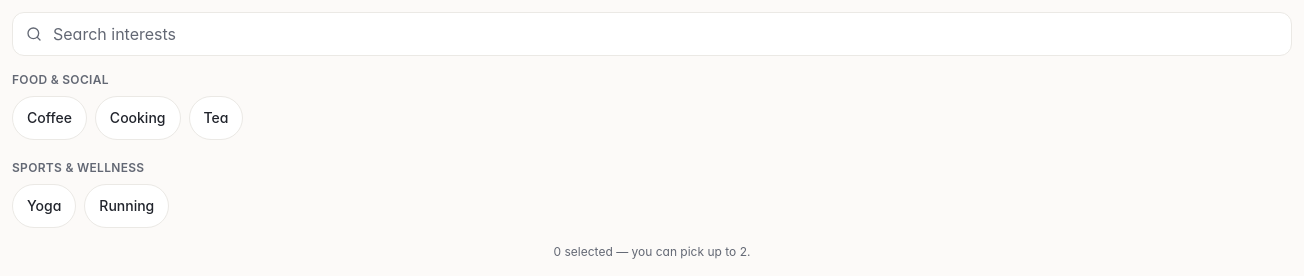
Test case: InterestPicker › reports the maximum clearly once reached
The image size is (1304, 276).
Click the button "Coffee": (49,118) [12,96,87,140]
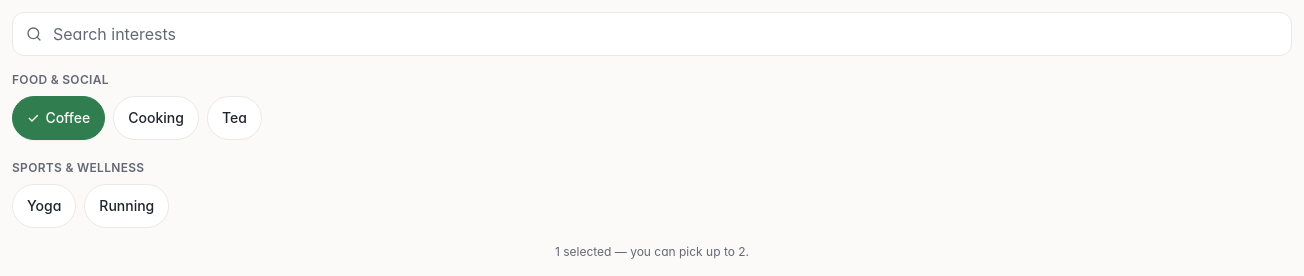
Click the button "Tea": (234,118) [207,96,262,140]
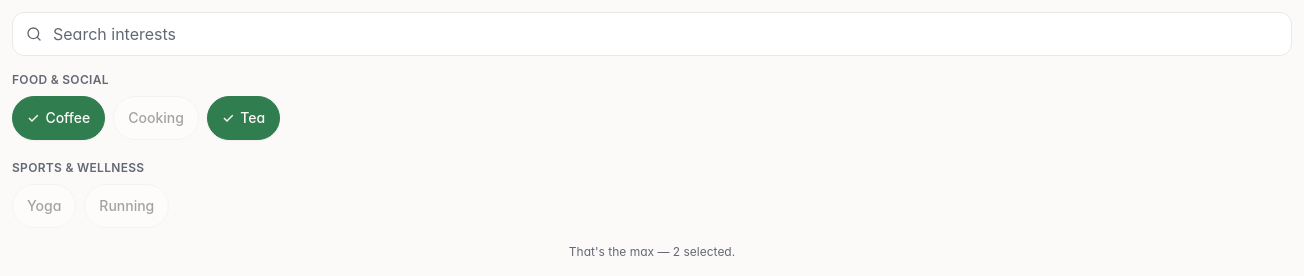
expect the text "That's the max — 2 selected." is shown: met, box [569,244,735,259]
